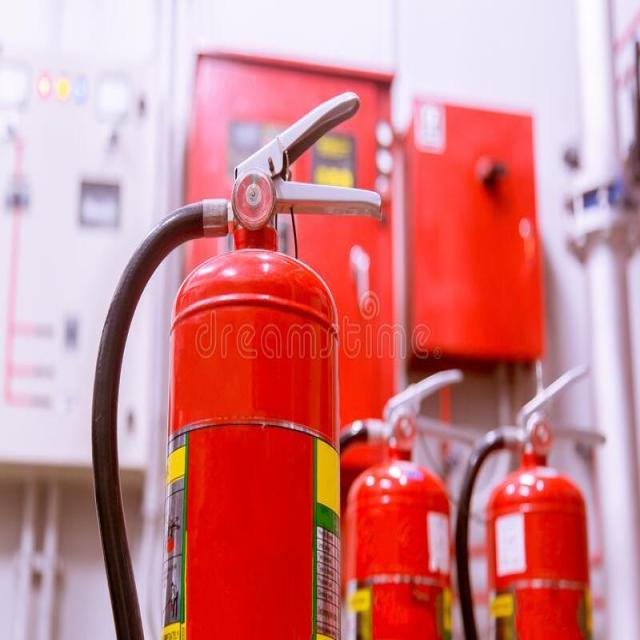fire_extinguisher: (90, 90, 383, 639), (318, 360, 484, 639), (452, 358, 610, 639)
